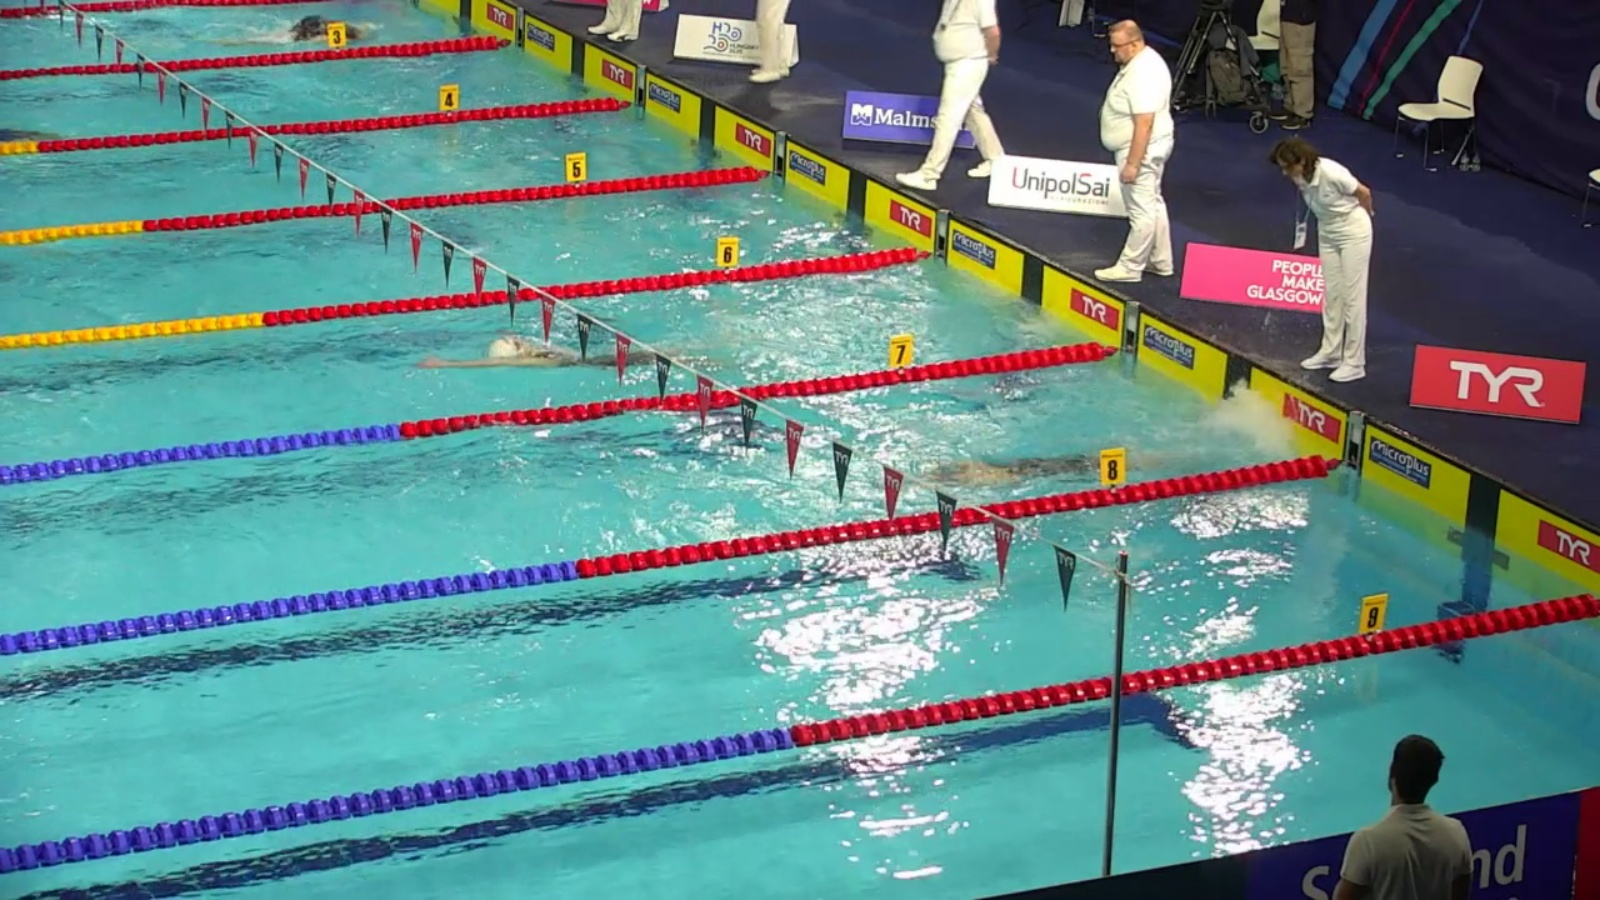swimmerw: (403, 321, 722, 368), (895, 449, 1149, 501), (234, 16, 373, 45)
